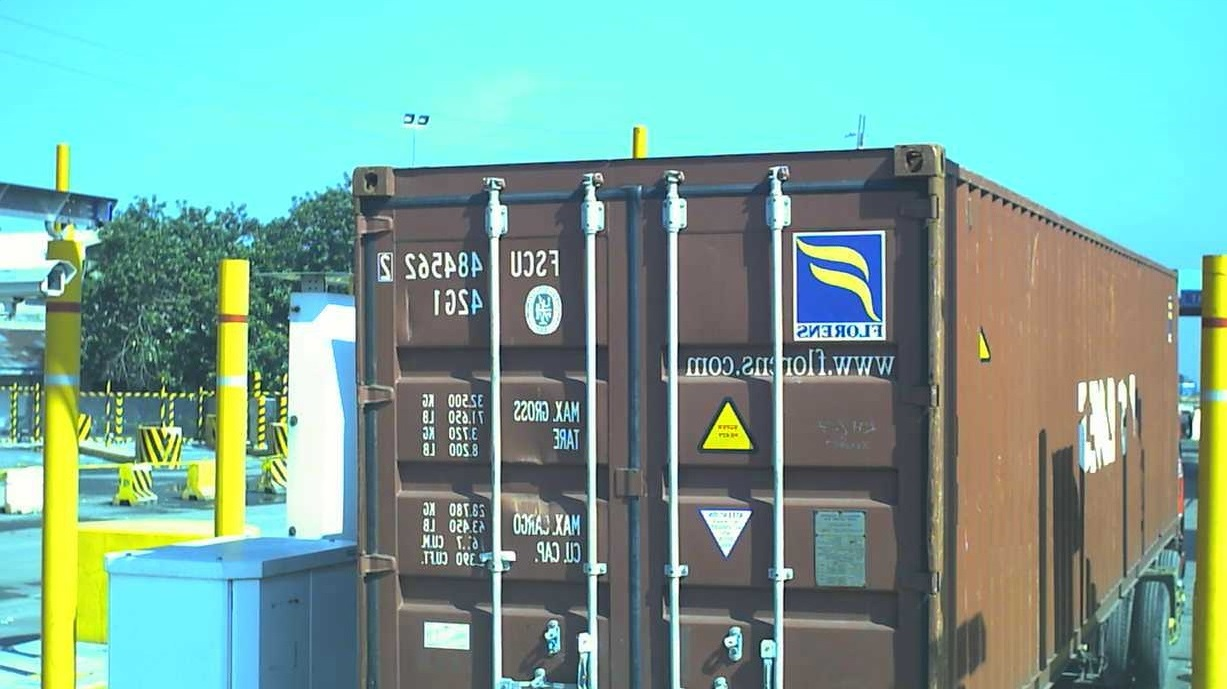container_door: (345, 163, 948, 685)
